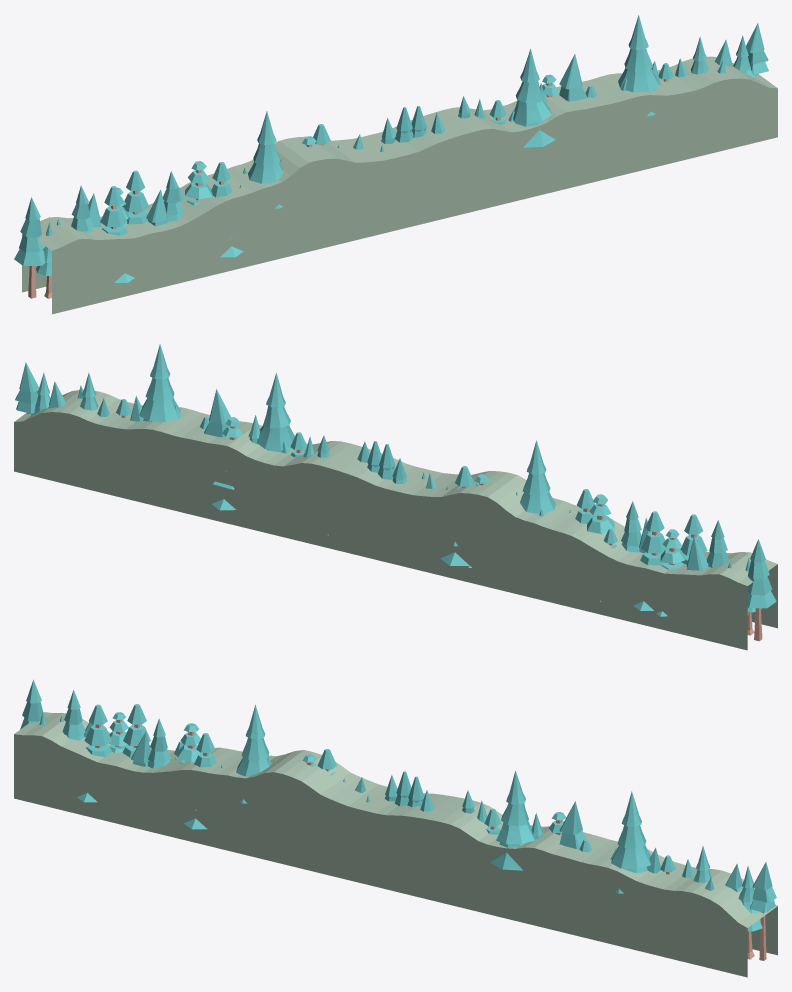
Rendered from backdrop_forest_far.glb.
3 renders of one model, top to bottom at view 1: azimuth 30°, elevation 25°; view 2: azimuth 150°, elevation 25°; view 3: azimuth 330°, elevation 25°, orthographic.
Parts seen in each view (by area): view 1: ForestFarLand, ForestFar_leafsDark_001, ForestFar_leafsDark_003, ForestFar_leafsDark_010, ForestFar_leafsDark, ForestFar_leafsDark_008, ForestFar_leafsDark_005, ForestFar_leafsDark_006, ForestFar_leafsDark_009, ForestFar_leafsDark_007; view 2: ForestFarLand, ForestFar_leafsDark_001, ForestFar_leafsDark_003, ForestFar_leafsDark_010, ForestFar_leafsDark_006, ForestFar_leafsDark, ForestFar_leafsDark_008, ForestFar_leafsDark_005, ForestFar_leafsDark_009, ForestFar_leafsDark_007; view 3: ForestFarLand, ForestFar_leafsDark_001, ForestFar_leafsDark_003, ForestFar_leafsDark_010, ForestFar_leafsDark, ForestFar_leafsDark_005, ForestFar_leafsDark_006, ForestFar_leafsDark_008, ForestFar_leafsDark_009, ForestFar_leafsDark_007.
Boxes of the visible parts, left/top/right/bottom form: ForestFarLand: left=22, top=56, right=777, bottom=314; ForestFar_leafsDark_001: left=36, top=15, right=708, bottom=275; ForestFar_leafsDark_003: left=100, top=63, right=673, bottom=282; ForestFar_leafsDark_010: left=239, top=35, right=756, bottom=187; ForestFar_leafsDark: left=353, top=23, right=768, bottom=149; ForestFar_leafsDark_008: left=14, top=58, right=687, bottom=265; ForestFar_leafsDark_005: left=71, top=96, right=470, bottom=232; ForestFar_leafsDark_006: left=117, top=74, right=559, bottom=226; ForestFar_leafsDark_009: left=88, top=60, right=726, bottom=227; ForestFar_leafsDark_007: left=395, top=106, right=426, bottom=142; ForestFarLand: left=14, top=390, right=777, bottom=650; ForestFar_leafsDark_001: left=80, top=344, right=761, bottom=612; ForestFar_leafsDark_003: left=116, top=399, right=707, bottom=610; ForestFar_leafsDark_010: left=31, top=372, right=570, bottom=512; ForestFar_leafsDark_006: left=211, top=417, right=685, bottom=616; ForestFar_leafsDark: left=15, top=362, right=436, bottom=488; ForestFar_leafsDark_008: left=97, top=398, right=776, bottom=608; ForestFar_leafsDark_005: left=317, top=435, right=729, bottom=567; ForestFar_leafsDark_009: left=77, top=385, right=708, bottom=570; ForestFar_leafsDark_007: left=367, top=441, right=395, bottom=479; ForestFarLand: left=14, top=712, right=777, bottom=977; ForestFar_leafsDark_001: left=39, top=704, right=711, bottom=893; ForestFar_leafsDark_003: left=77, top=704, right=675, bottom=871; ForestFar_leafsDark_010: left=221, top=761, right=762, bottom=931; ForestFar_leafsDark: left=355, top=777, right=776, bottom=912; ForestFar_leafsDark_005: left=62, top=690, right=474, bottom=813; ForestFar_leafsDark_006: left=109, top=712, right=566, bottom=832; ForestFar_leafsDark_008: left=20, top=679, right=694, bottom=877; ForestFar_leafsDark_009: left=84, top=722, right=714, bottom=890; ForestFar_leafsDark_007: left=394, top=771, right=424, bottom=807.
Bounding box in the file's own units: 71.94 × 13.34 × 6.49.
